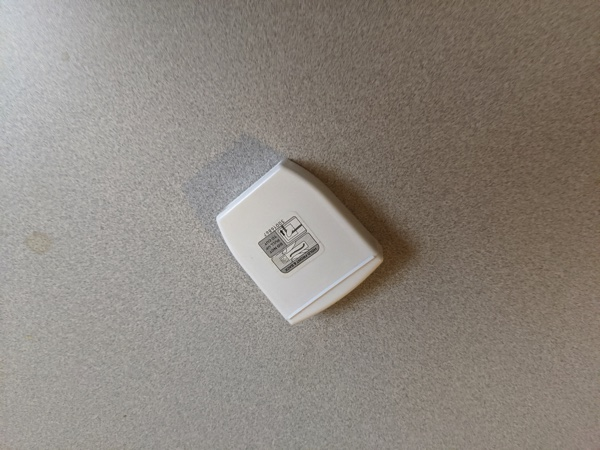plastic: (207, 143, 403, 345)
